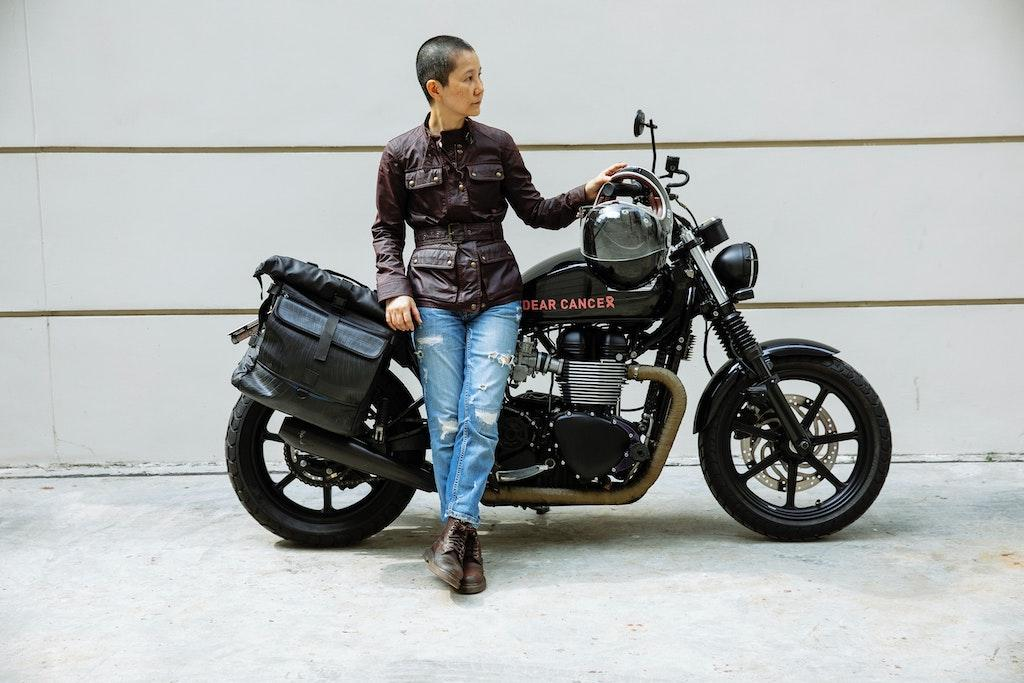helmet: (576, 165, 674, 292)
nohelmet: (415, 34, 485, 118)
